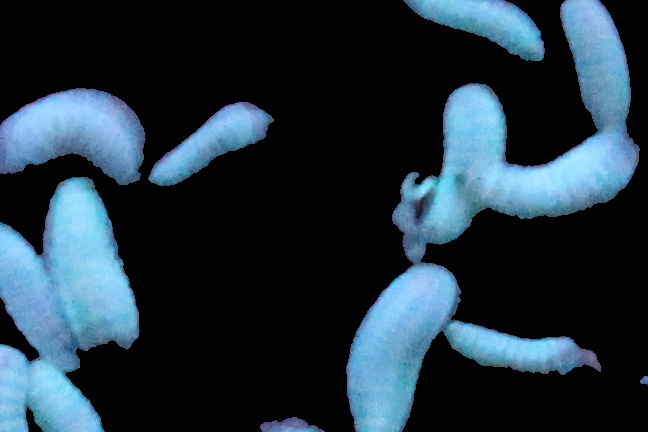larvae: (344, 265, 457, 432), (49, 179, 138, 349), (424, 84, 511, 244), (484, 132, 644, 218), (1, 89, 144, 184), (1, 219, 81, 368), (147, 100, 281, 187), (558, 1, 644, 130), (395, 1, 545, 62), (445, 319, 572, 379), (30, 362, 105, 432), (1, 343, 33, 431)
